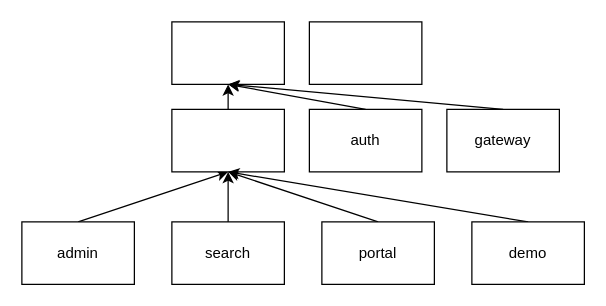
Some shapes in this 606 by 306 pixel diagram are drawn without their labels. Here are the shapes that lost their labels. From the top down, the box of each, then its label:
(171, 21, 284, 84): common
(308, 21, 422, 84): monitor
(171, 108, 284, 172): mbg
